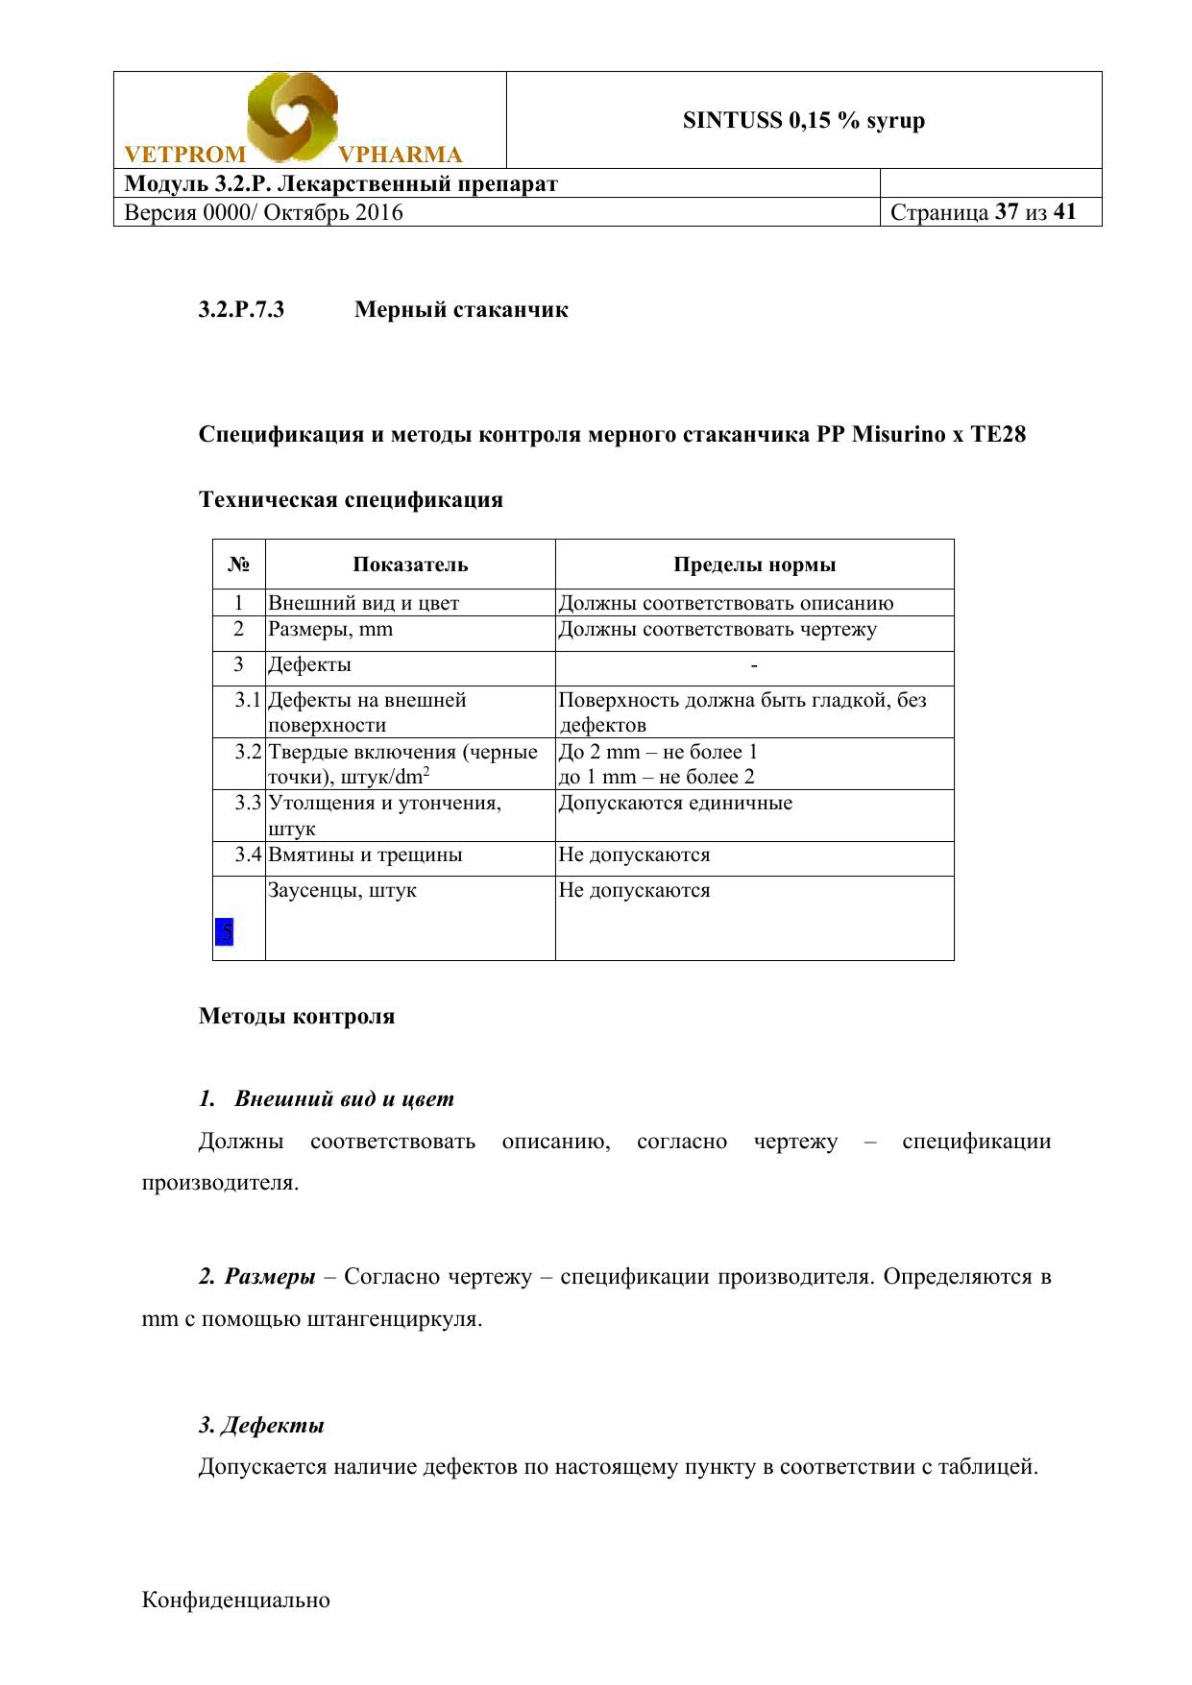full_lined: (212, 537, 955, 961)
merged_cells: (112, 70, 1103, 227)
